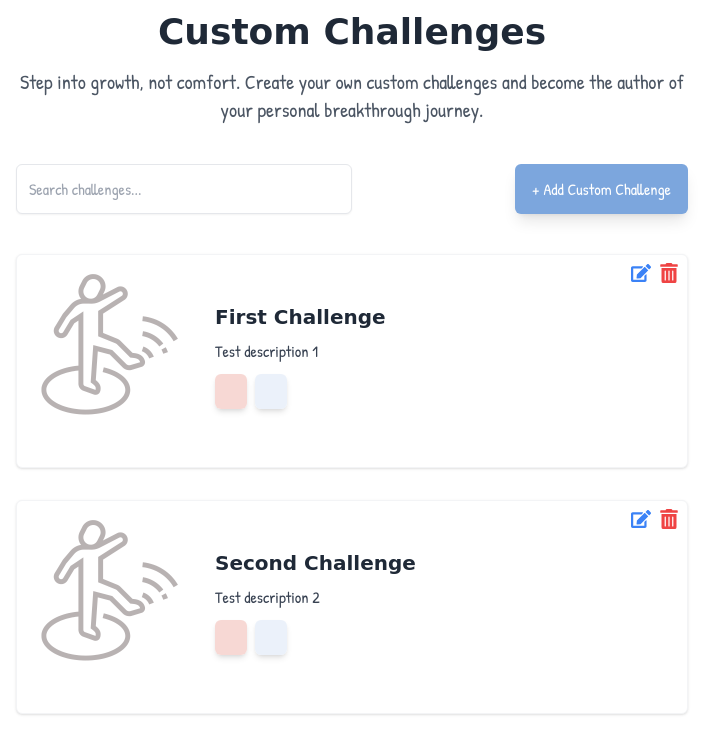
Test: CustomChallengeList Component › filters challenges based on the search query with debounce
Expected: the heading "First Challenge" is shown, [215,305,386,329]
Expected: the heading "Second Challenge" is shown, [215,551,416,575]
Type "second" into the field with placeholder "Search challenges...".
click(184, 189); type("second")  # box [16,164,352,214]
Wait 1000 ms
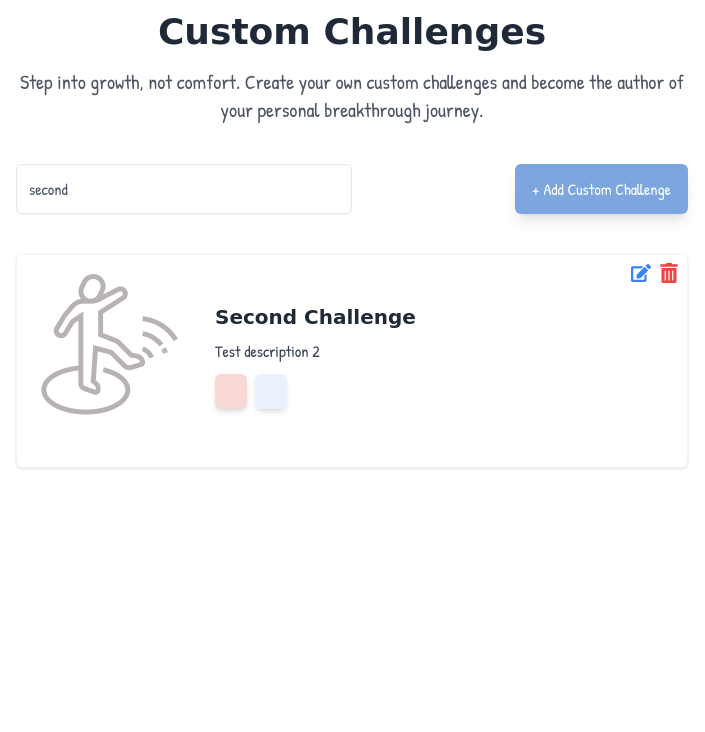
Result: the heading "Second Challenge" is shown at [215,305,416,329]
Clear the field with placeholder "Search challenges..." at [184, 189], box [16,164,352,214]
Wait 1000 ms
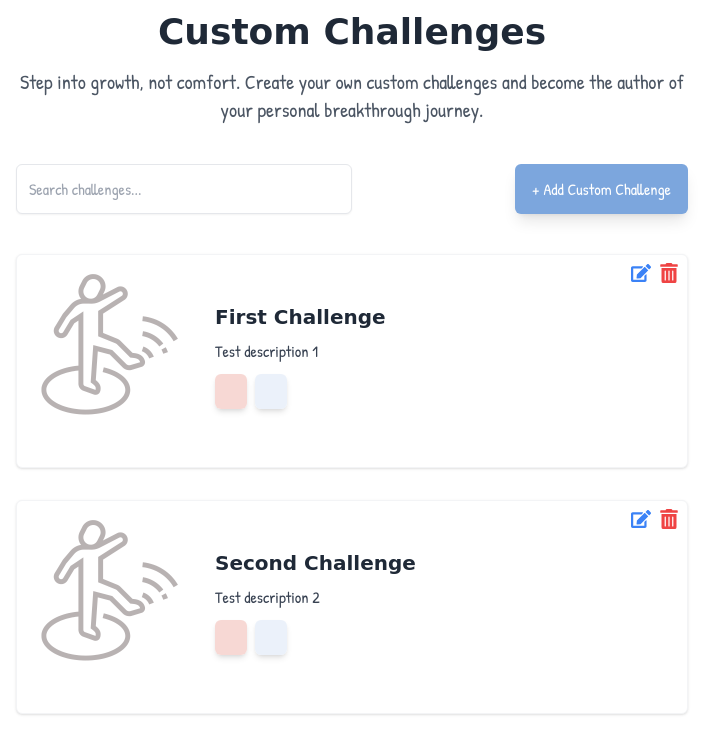
Expected: the heading "Second Challenge" is shown, [215,551,416,575]
Result: the heading "First Challenge" is shown at [215,305,386,329]
